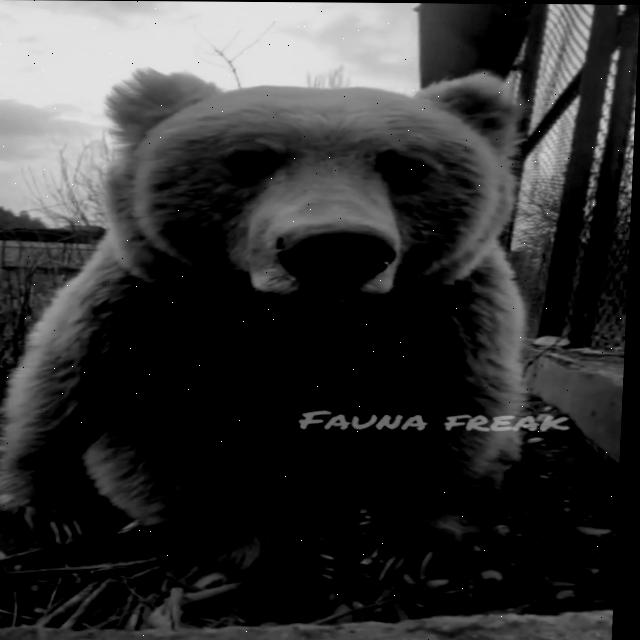Bear: (0, 64, 544, 609)
